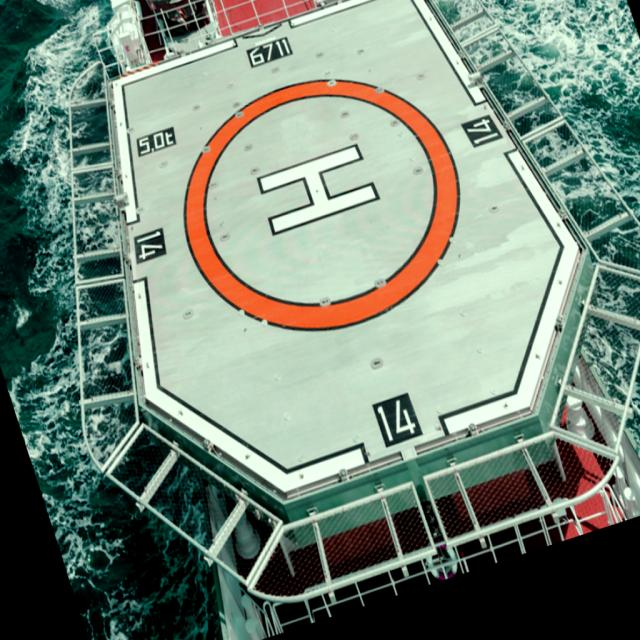helipad: (178, 74, 466, 336)
